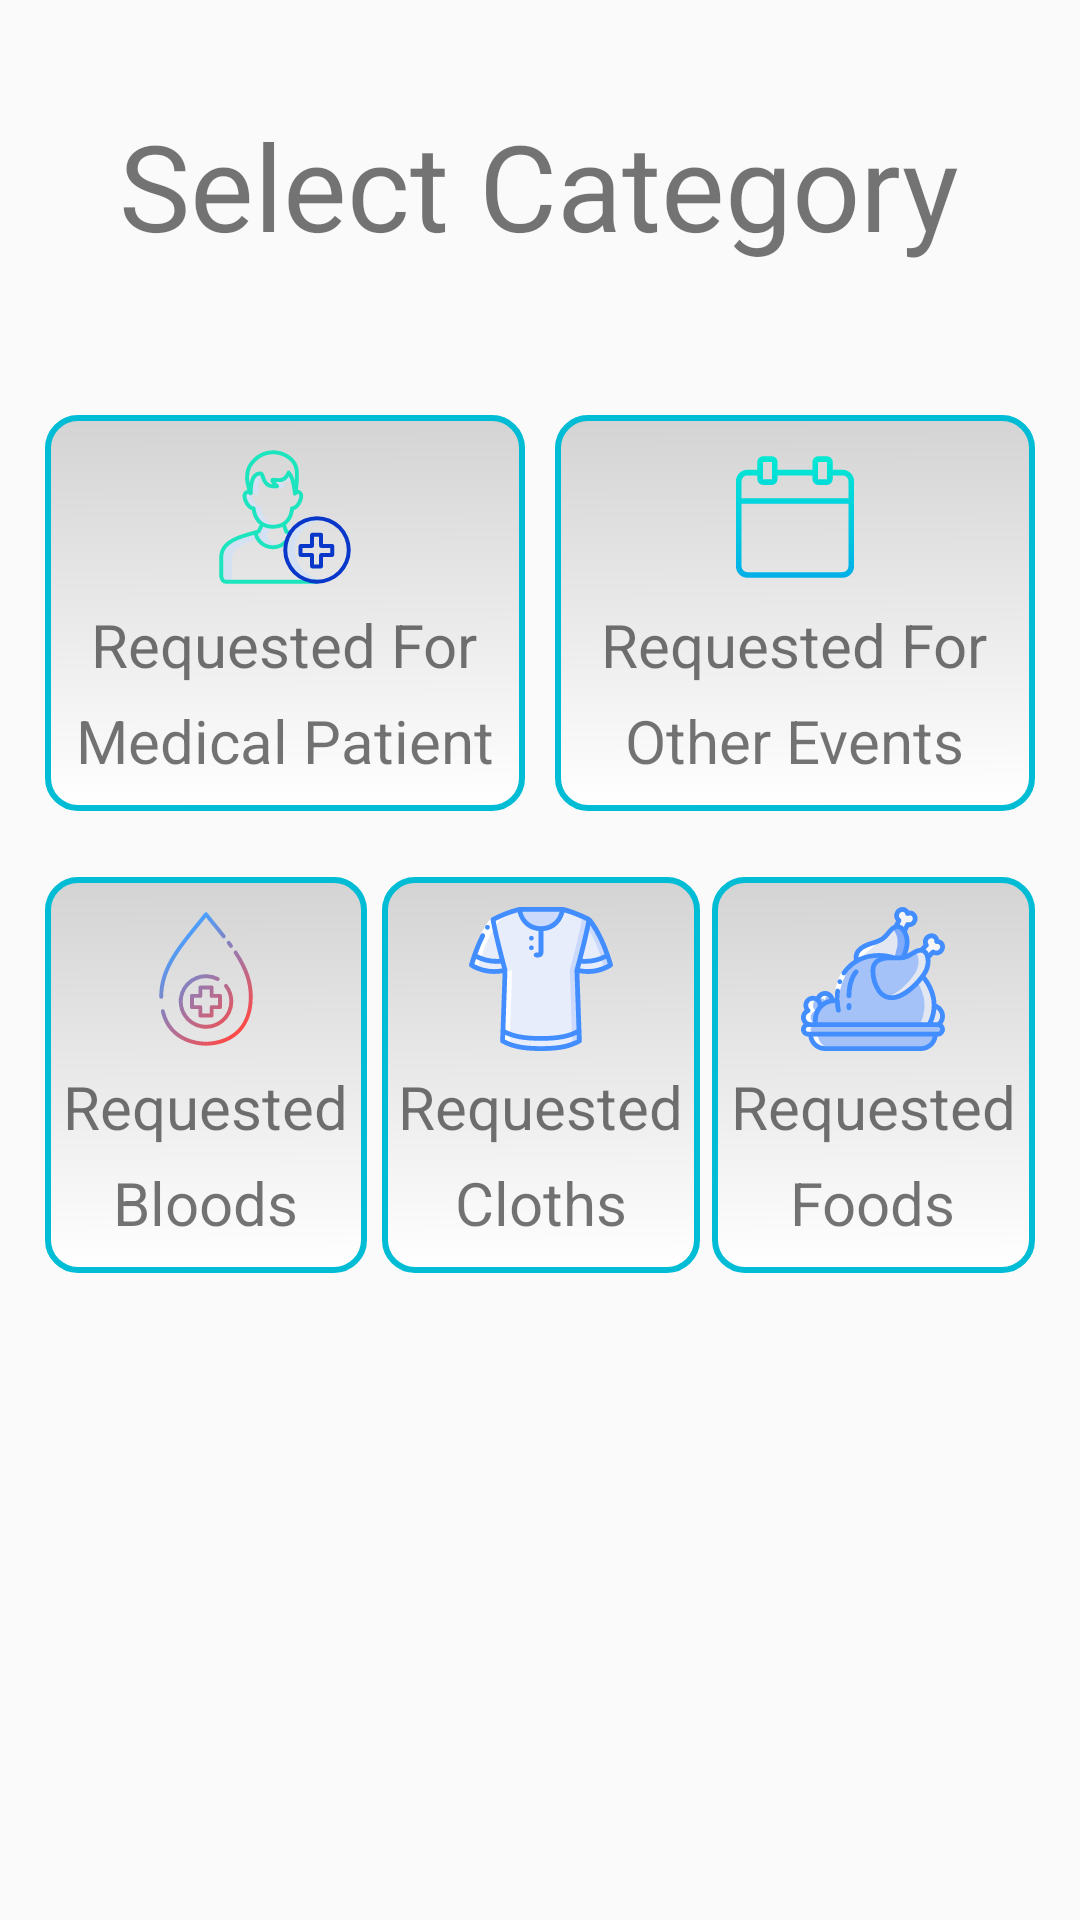

Icons on this 1080px×1920px Android screen, each with its box as (x1, y1, x2, y2):
blood drop: (159, 912, 253, 1046)
shirt: (469, 907, 613, 1051)
turkey: (801, 907, 945, 1051)
